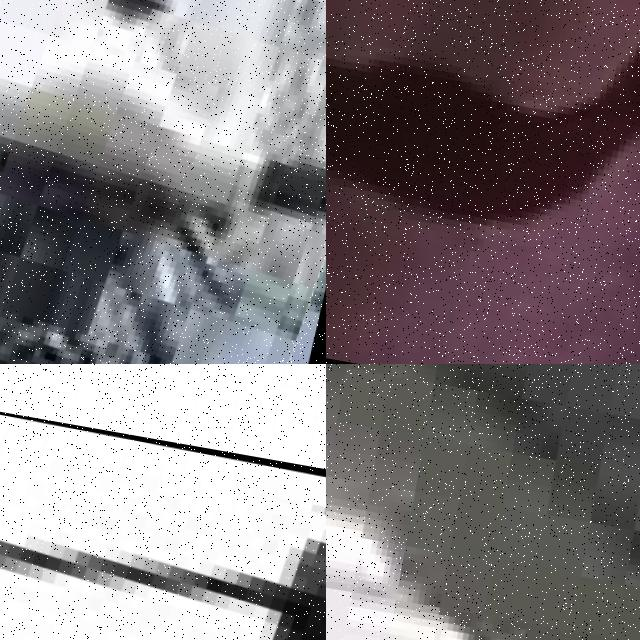drone: (0, 0, 326, 364), (0, 377, 326, 640)
